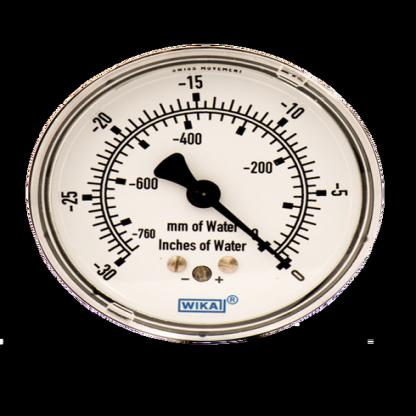needle: (212, 201, 292, 270)
